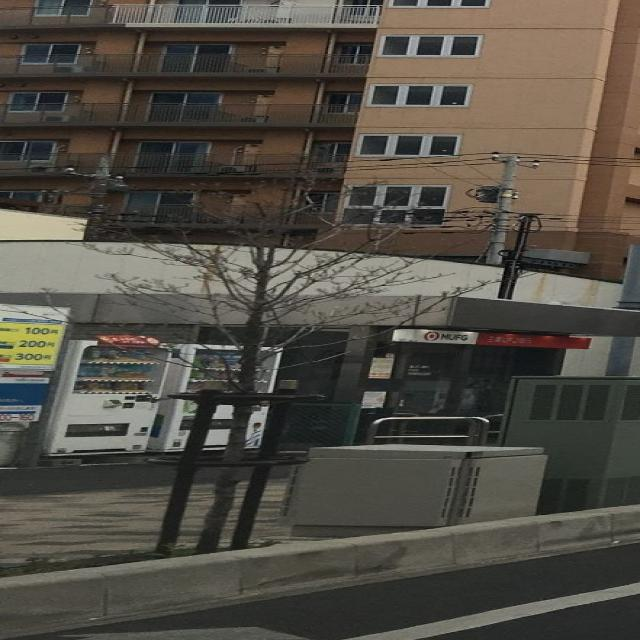dogwood: (0, 143, 560, 555)
